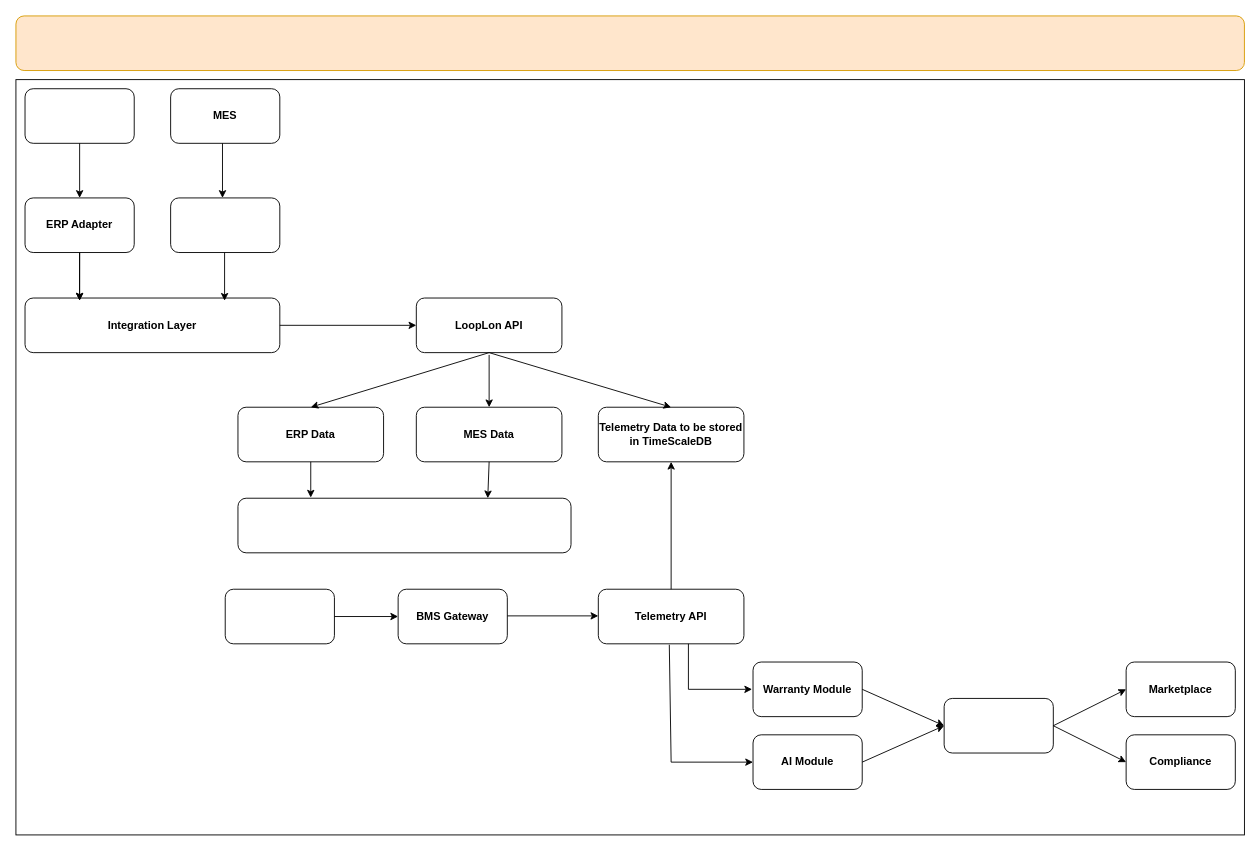
Image size: 1260x851. Some labels were removed from this diagram. The centre of each missing label's shape, as x and y in pixels:
"BMS System" belongs at (279,616).
"Lifecycle Module" belongs at (998,725).
"LoopLon Architecture" belongs at (629,43).
"MES Adapter" belongs at (225,225).
"SAP" belongs at (79,115).
"SQL Server Database" belongs at (404,525).
